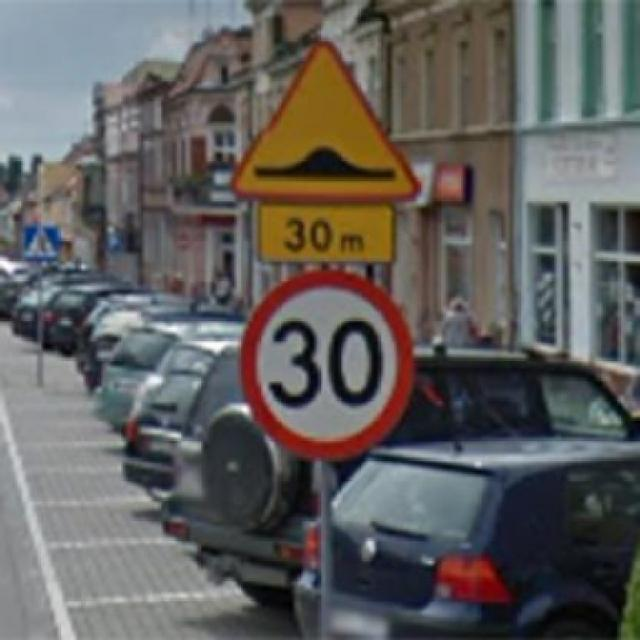Przejscie dla pieszych: (19, 223, 64, 262)
